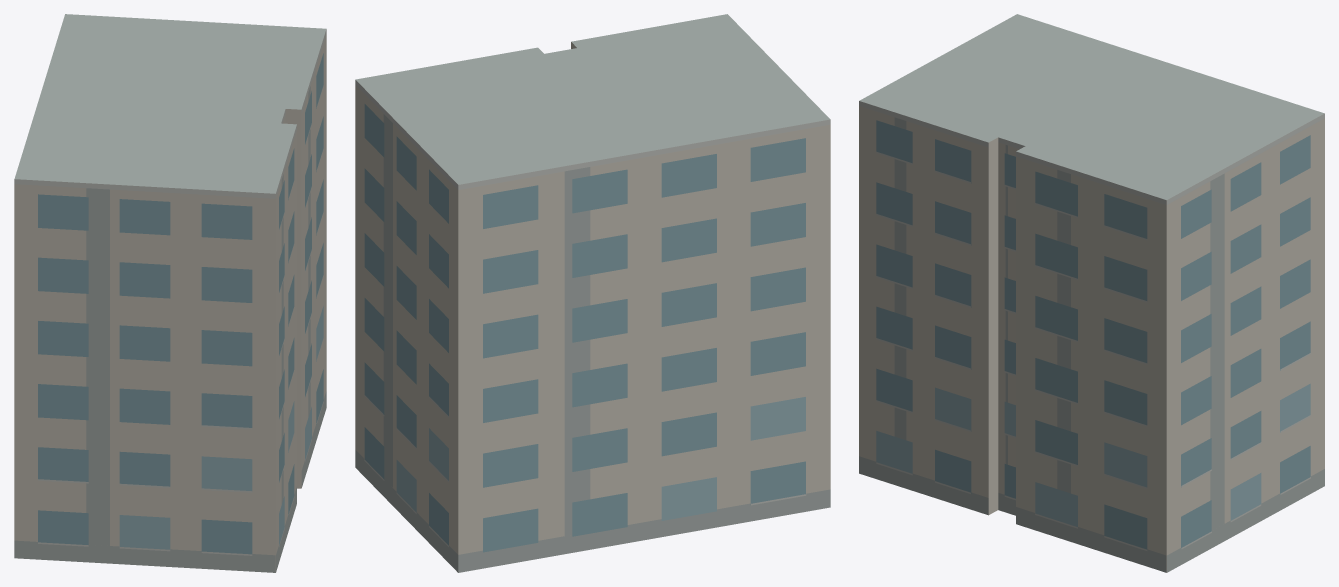
Rendered from survey-upis-32830870.glb.
3 renders of one model, left to right at view 1: azimuth 30°, elevation 25°; view 2: azimuth 150°, elevation 25°; view 3: azimuth 270°, elevation 25°, orthographic. The views are drawn at different scales.
Visible parts, largest first — view 1: survey-upis-32830870.tmp; view 2: survey-upis-32830870.tmp; view 3: survey-upis-32830870.tmp.
Part boxes in pixels (x1=…): survey-upis-32830870.tmp: x1=14, y1=14, x2=326, y2=572; survey-upis-32830870.tmp: x1=355, y1=14, x2=830, y2=572; survey-upis-32830870.tmp: x1=859, y1=14, x2=1324, y2=572.
Bounding box in the file's own units: 19.67 × 18.35 × 20.79.
